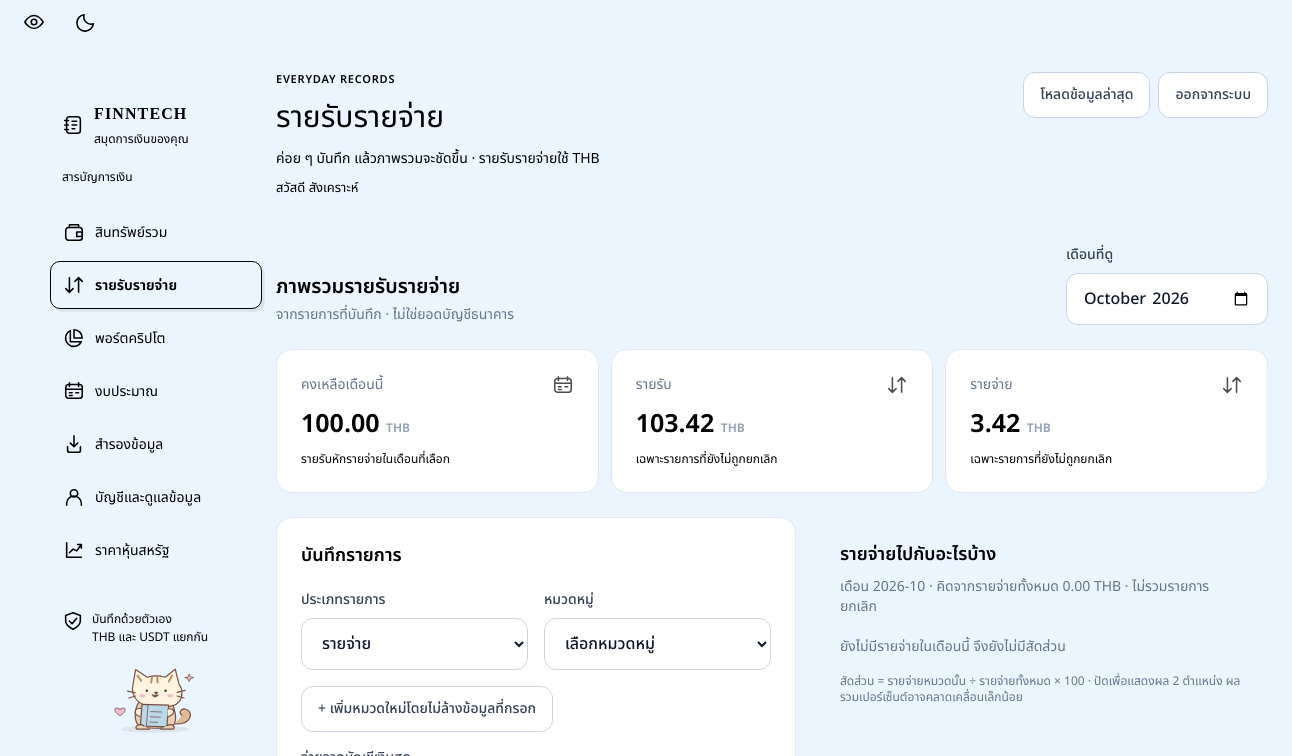
tracker presentation preserves financial boundaries › masks crypto quantities/cost/history while leaving missing live prices as N/A
The width and height of the screenshot is (1292, 756).
Click the button named "ซ่อนยอดเงิน".
click(34, 22)  # box [12, 0, 56, 44]
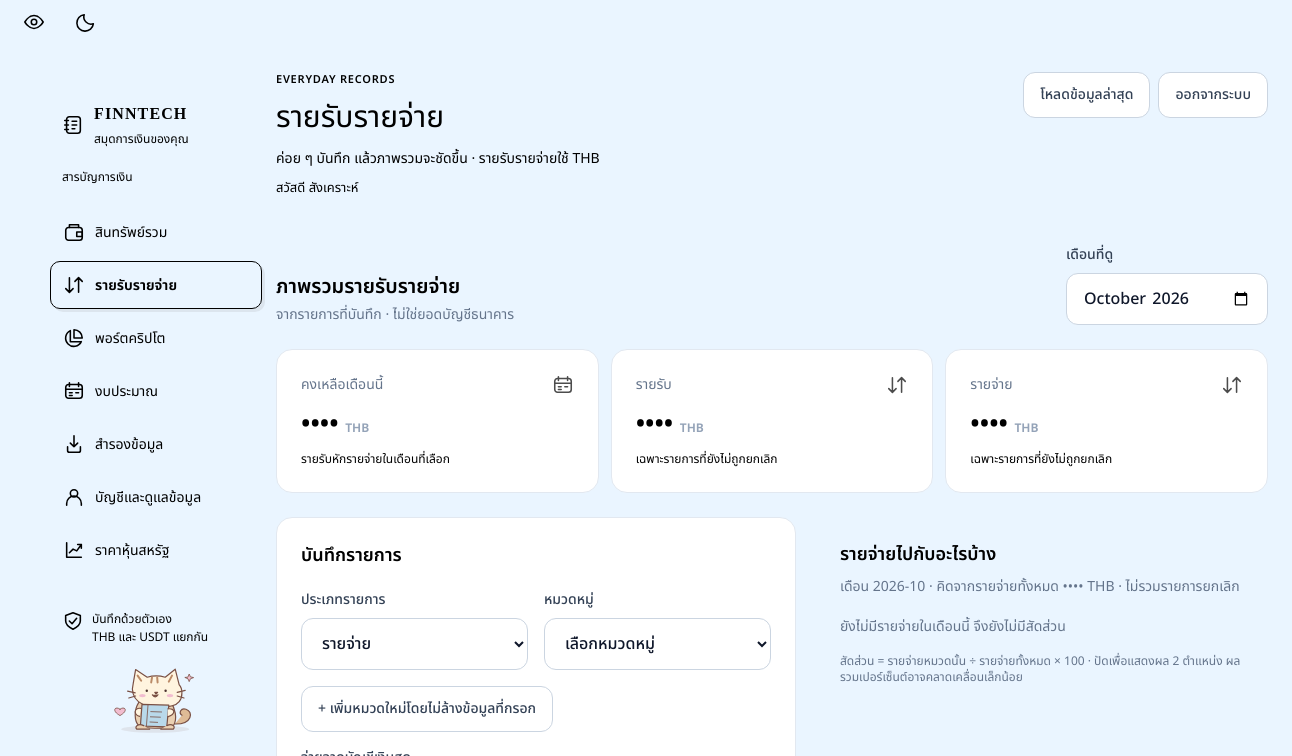
Click the button "พอร์ตคริปโต".
click(156, 338)  # box [50, 314, 262, 362]
(page scrolled)
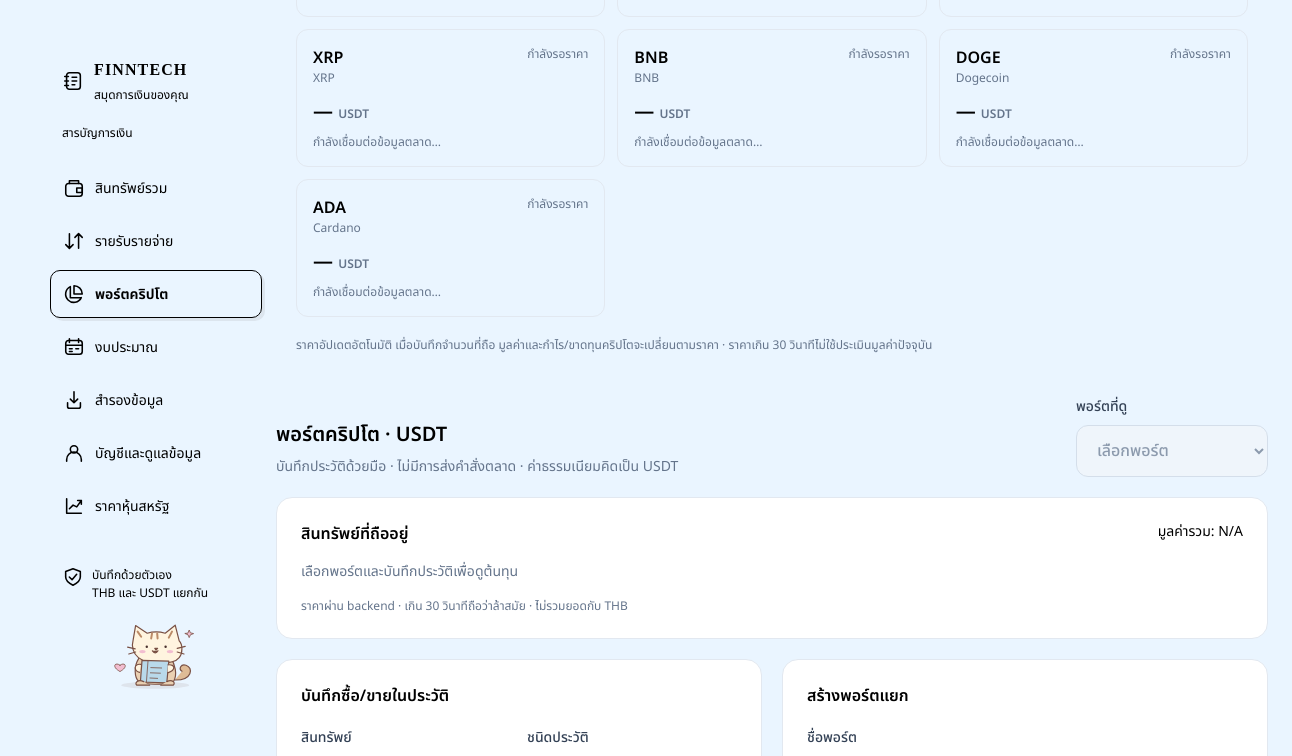
Select "พอร์ตสังเคราะห์" in the dropdown labelled "พอร์ตที่ดู" at (1172, 450), box [1076, 424, 1268, 476]
(page scrolled)
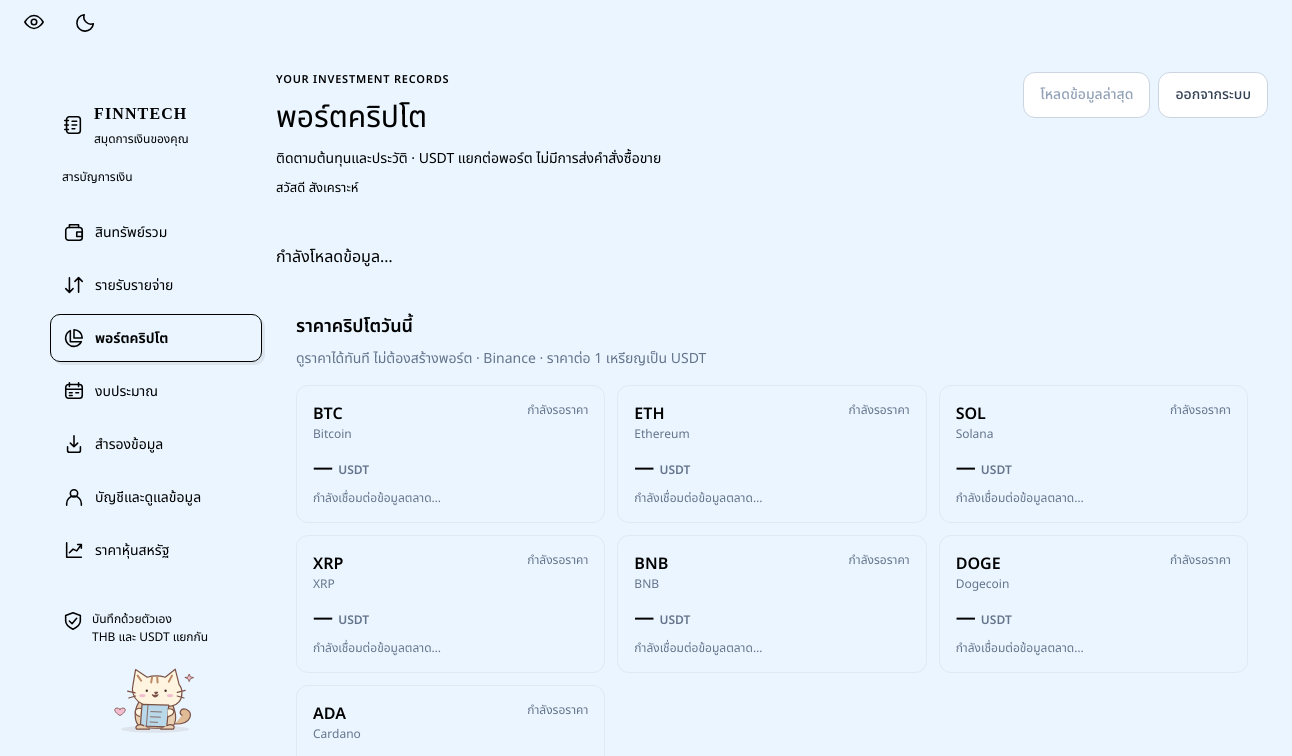
Expected: the text "0.00000001" is not shown
Expected: the text "25,000.00" is not shown
Click the button named "แสดงยอดเงิน".
click(34, 22)  # box [12, 0, 56, 44]
(page scrolled)
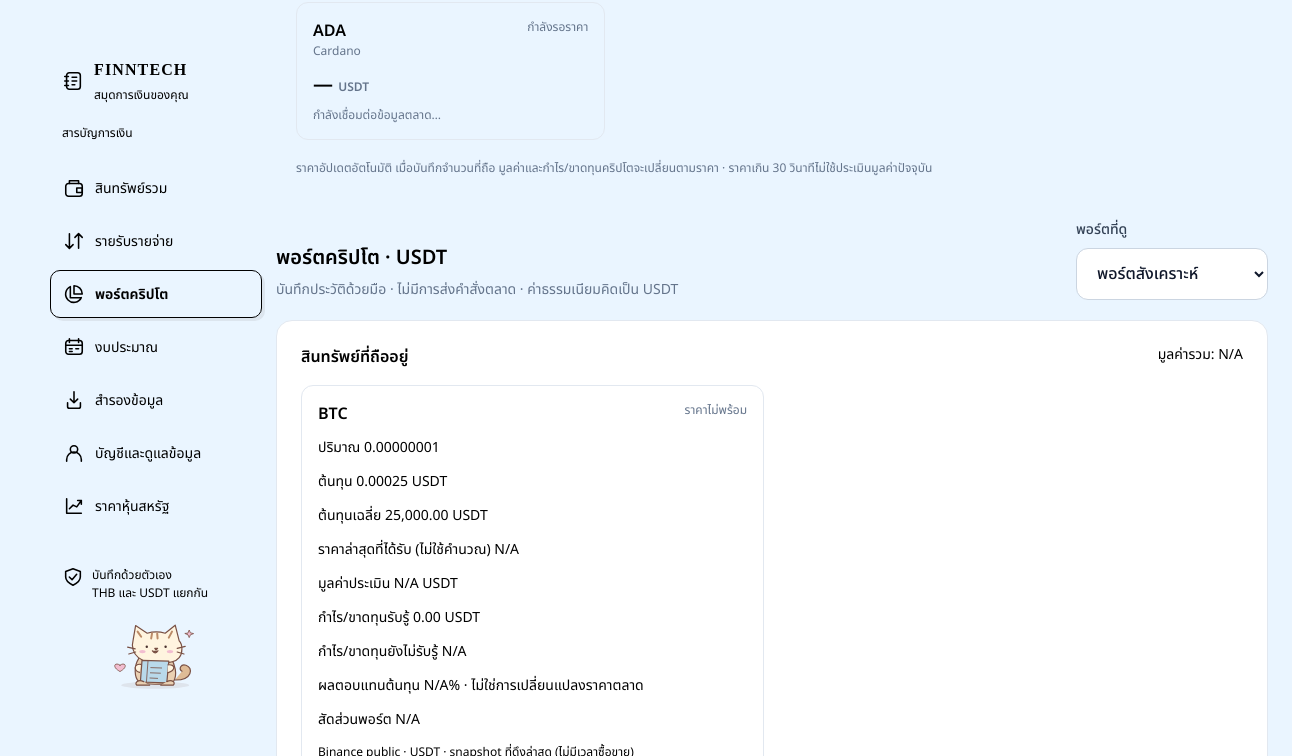
Expected: the text "ปริมาณ 0.00000001" is shown, [318, 436, 440, 458]
